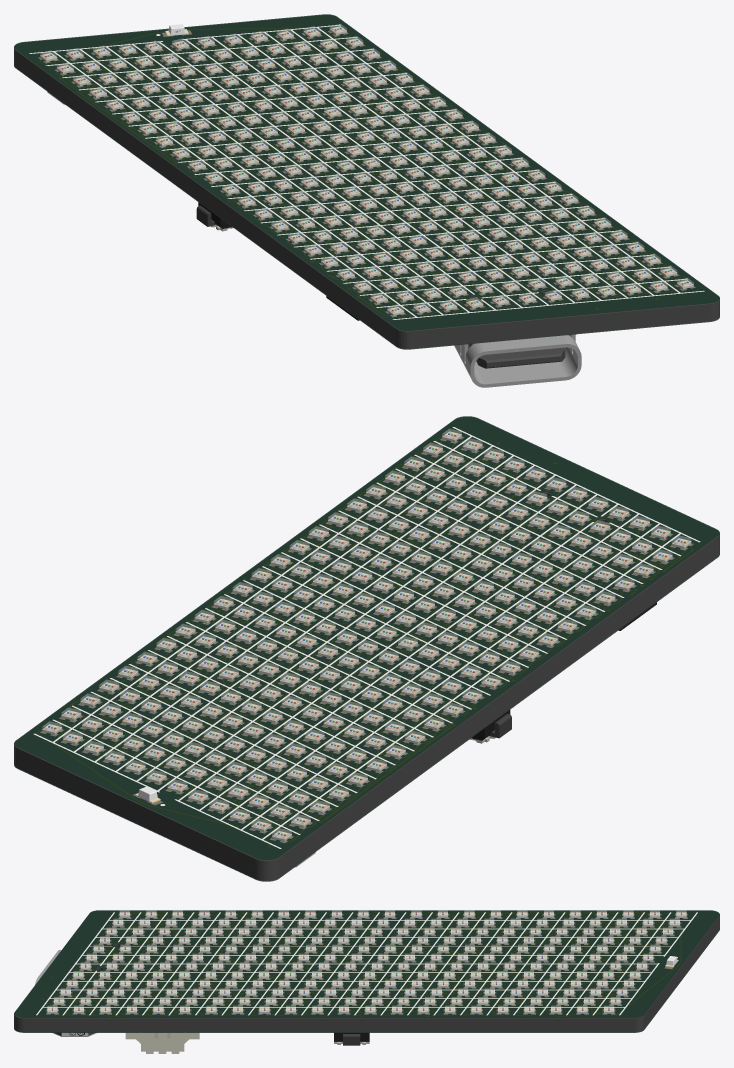
Rendered from board.glb.
3 views of the same model, one above another, from view 1: azimuth 30°, elevation 25°; view 2: azimuth 150°, elevation 25°; view 3: azimuth 270°, elevation 25° (orthographic). The views are drawn at different scales.
Visible parts, largest first — view 1: parallelogram_soldermask (×2), parallelogram_PCB, parallelogram_silkscreen, parallelogram_pad, USB-C-SMD_TYPE-C-31-M-22, parallelogram_copper; view 2: parallelogram_soldermask (×2), parallelogram_PCB, parallelogram_silkscreen, parallelogram_pad, parallelogram_copper; view 3: parallelogram_soldermask (×2), parallelogram_PCB, parallelogram_silkscreen, parallelogram_pad, Molex_PicoBlade_53261-0271_1x02-1MP_P1.25mm_Horizontal, parallelogram_copper, SW-SMD_EVQP7C01P-L3.6-W3.5-H1.4-P3.6-LS4.7.
Part boxes in pixels (x1,y1,x2,y2): parallelogram_soldermask (×2): (14,14,719,349); parallelogram_PCB: (14,15,719,348); parallelogram_silkscreen: (29,24,704,319); parallelogram_pad: (38,30,695,317); USB-C-SMD_TYPE-C-31-M-22: (454,334,581,387); parallelogram_copper: (38,27,684,317); parallelogram_soldermask (×2): (14,416,719,881); parallelogram_PCB: (14,417,719,880); parallelogram_silkscreen: (33,427,700,848); parallelogram_pad: (40,436,693,843); parallelogram_copper: (37,437,693,841); parallelogram_soldermask (×2): (14,910,719,1032); parallelogram_PCB: (14,911,719,1032); parallelogram_silkscreen: (36,912,697,1015); parallelogram_pad: (46,913,687,1014); Molex_PicoBlade_53261-0271_1x02-1MP_P1.25mm_Horizontal: (125,1033,199,1053); parallelogram_copper: (50,912,681,1016); SW-SMD_EVQP7C01P-L3.6-W3.5-H1.4-P3.6-LS4.7: (334,1033,369,1045).
Size of the model in its own units: 0.0259 by 0.00568 by 0.0693.
